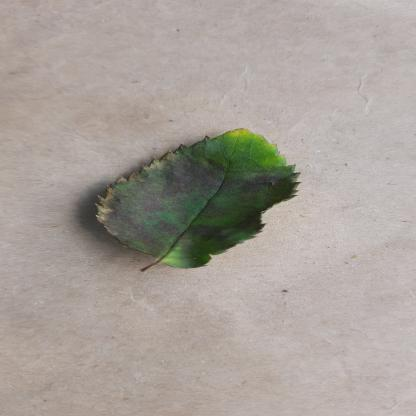downy-mildew: (87, 128, 309, 270)
